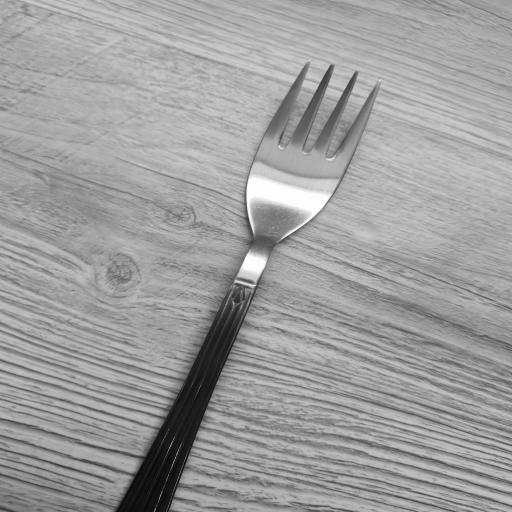fork: (117, 57, 385, 512)
